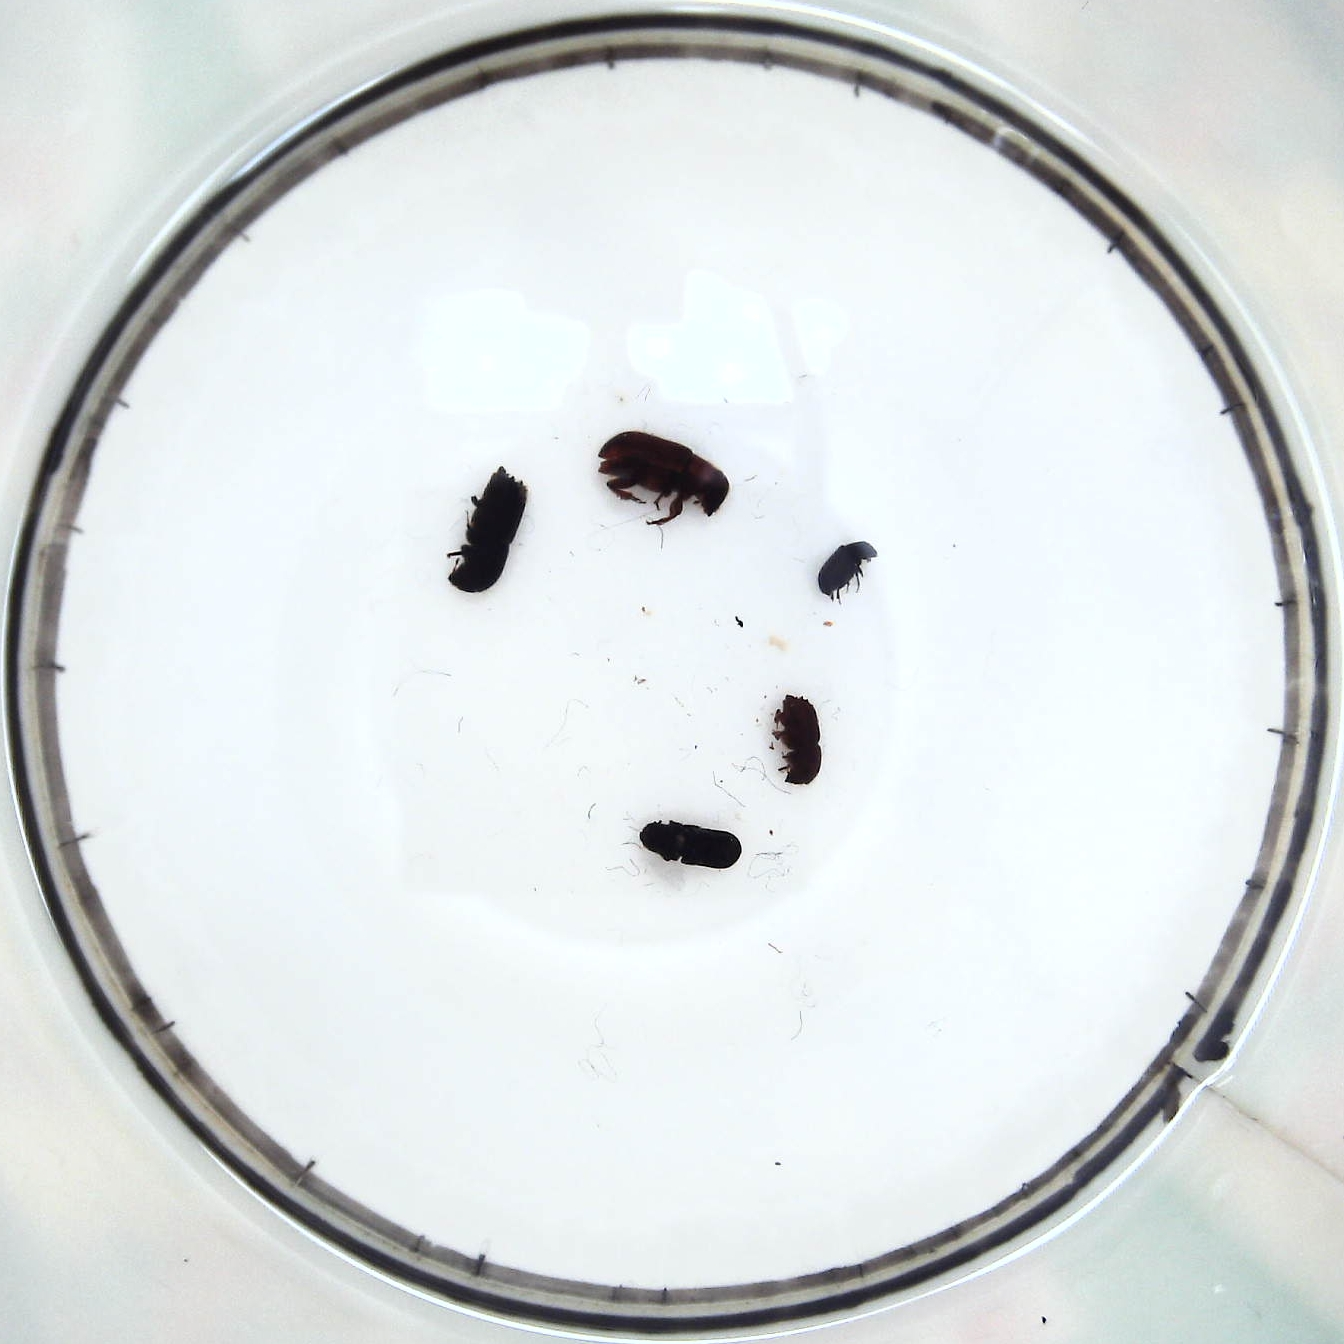Boerner: (446, 462, 526, 598)
Leconte: (601, 425, 736, 533)
Linnaeus: (767, 694, 827, 793)
armandi: (636, 818, 745, 871)
coleoptera: (816, 540, 882, 601)
